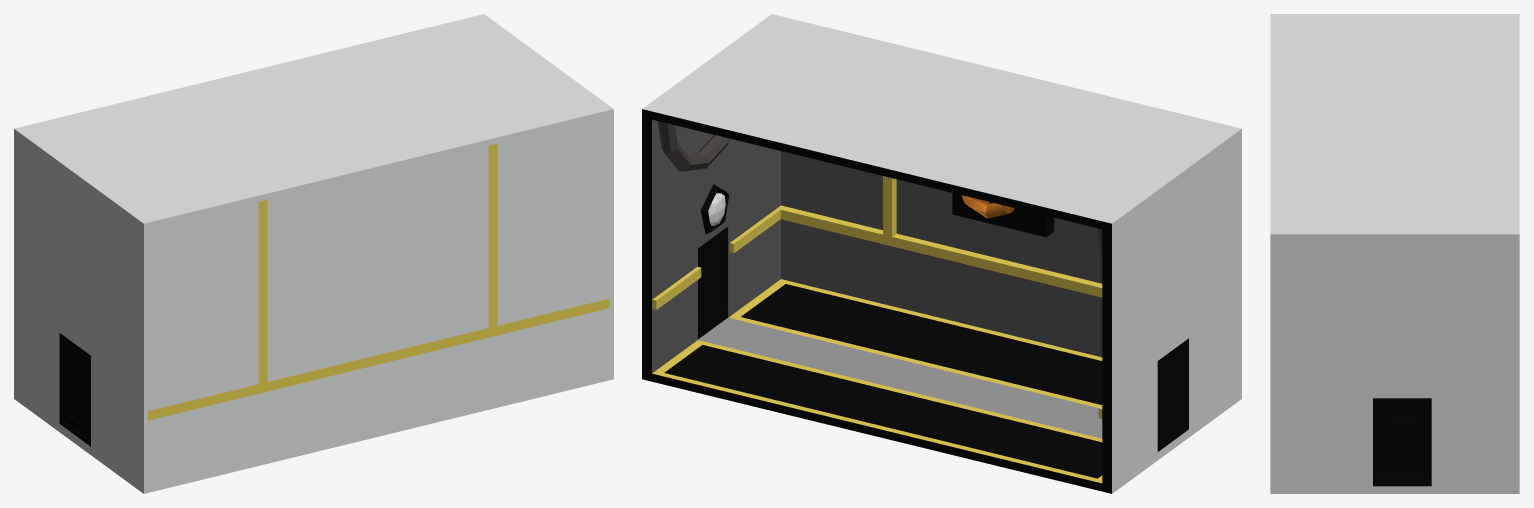
File: Hall1.fbx
3 renders of one model, left to right at view 1: azimuth 30°, elevation 25°; view 2: azimuth 150°, elevation 25°; view 3: azimuth 270°, elevation 25°, orthographic. The views are drawn at different scales.
Parts seen in each view (by area): view 1: BaseRoom, YellowBarrer, DoorRight; view 2: BaseRoom, YellowBarrer, DoorRight, DoorLefrt, WheelHolder, Wire; view 3: BaseRoom, DoorLefrt.
Part boxes in pixels (x1,y1,x2,y2): BaseRoom: (14,14,613,493); YellowBarrer: (147,143,609,420); DoorRight: (59,333,90,446); BaseRoom: (642,14,1241,493); YellowBarrer: (652,176,1102,418); DoorRight: (1157,338,1188,451); DoorLefrt: (698,227,727,339); WheelHolder: (952,193,1054,237); Wire: (657,121,729,171); BaseRoom: (1270,14,1519,493); DoorLefrt: (1373,398,1431,486).
Bounding box in the file's own units: 1806 × 992 × 864.
